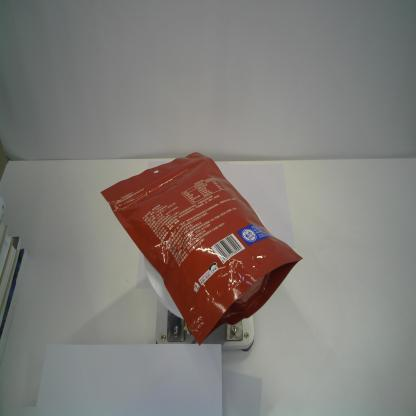Dried Food: (100, 151, 303, 348)
